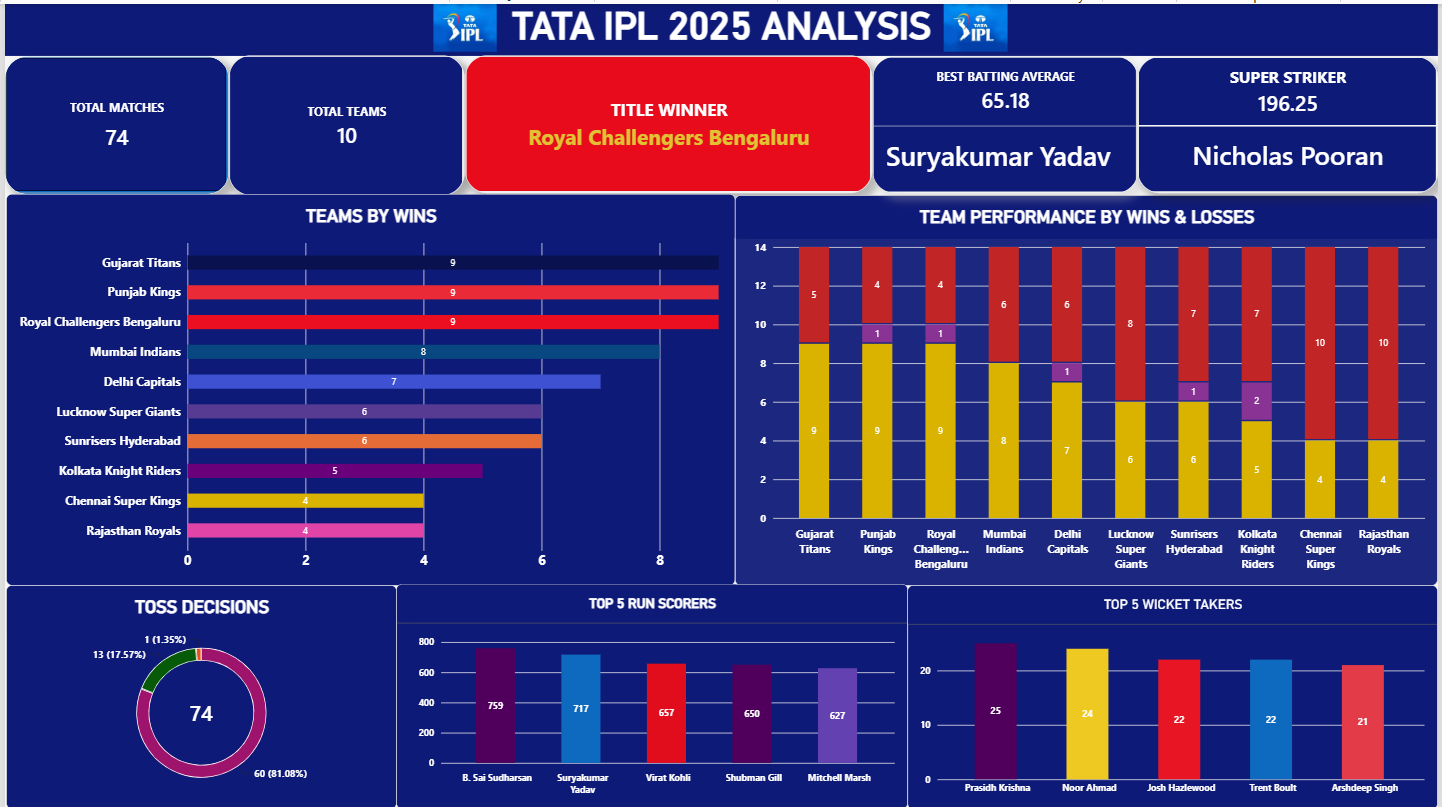

The dashboard page shown, as its layout file describes it:
{"tool":"powerbi","page":{"name":"Page 1","canvas":[1920,1080],"ordinal":0},"visuals":[{"type":"textbox","title":"TATA IPL 2025 ANALYSIS  ","box":[0,0,1920.4,69.8],"z":0},{"type":"cardVisual","fields":{"Data":["CountNonNull(IPL_2025_Match_Level_Final_Corrected.Match_ID)"]},"box":[0,69.8,300,184.9],"z":3000},{"type":"cardVisual","fields":{"Data":["Count(IPL_2025_Teams.Team)"]},"box":[300,68,315.7,188.4],"z":4000},{"type":"cardVisual","fields":{"Data":["Min(IPL_2025_Match_Level_Final_Corrected.Winner)"]},"box":[615.7,68,545.9,184.9],"z":5000},{"type":"barChart","title":"TEAMS BY WINS","fields":{"Category":["IPL_2025_Teams.Team"],"Y":["Sum(IPL_2025_Teams.Wins)"]},"box":[1.7,254.7,976.7,525],"z":6000},{"type":"columnChart","title":"TEAM PERFORMANCE BY WINS & LOSSES","fields":{"Category":["IPL_2025_Teams.Team"],"Y":["Sum(IPL_2025_Teams.Wins)","Sum(IPL_2025_Teams.No_Result)","Sum(IPL_2025_Teams.Losses)"]},"box":[978.5,256.4,941.9,523.3],"z":7000},{"type":"donutChart","title":"TOSS DECISIONS","fields":{"Category":["IPL_2025_Match_Level_Final_Corrected.Toss_Decision"],"Y":["CountNonNull(IPL_2025_Match_Level_Final_Corrected.Toss_Winner)"]},"box":[1.7,779.7,523.3,300],"z":8000},{"type":"clusteredColumnChart","title":"TOP 5 RUN SCORERS","fields":{"Category":["IPL_2025_Batting_Top20.Player"],"Y":["Sum(IPL_2025_Batting_Top20.Runs)"]},"box":[525,777.9,685.5,301.7],"z":9000},{"type":"clusteredColumnChart","title":"TOP 5 WICKET TAKERS","fields":{"Category":["IPL_2025_Bowling_Top10.Player"],"Y":["Sum(IPL_2025_Bowling_Top10.Wickets)"]},"box":[1210,779,710,301],"z":10000},{"type":"cardVisual","fields":{"Data":["Sum(IPL_2025_Batting_Top20.Batting_Average)"]},"box":[1161.6,69.8,355.8,183.1],"z":11000},{"type":"cardVisual","fields":{"Data":["Sum(IPL_2025_Batting_Top20.Strike_Rate)"]},"box":[1517.4,69.8,402.9,183.1],"z":12000},{"type":"image","box":[564.5,0,103.8,63.6],"z":12001},{"type":"image","box":[1237.8,0,125.6,63.6],"z":12002}]}

Visuals, with their boxes in screenshot pixels (x1, y1, x2, y2), scaled from the page's 1920x1080 canvas onto the 1442x807 screenshot:
"TATA IPL 2025 ANALYSIS  " textbox: region(0, 0, 1441, 52)
cardVisual - CountNonNull(IPL_2025_Match_Level_Final_Corrected.Match_ID): region(0, 52, 225, 190)
cardVisual - Count(IPL_2025_Teams.Team): region(225, 51, 462, 192)
cardVisual - Min(IPL_2025_Match_Level_Final_Corrected.Winner): region(462, 51, 872, 189)
"TEAMS BY WINS" barChart: region(1, 190, 735, 583)
"TEAM PERFORMANCE BY WINS & LOSSES" columnChart: region(735, 192, 1441, 583)
"TOSS DECISIONS" donutChart: region(1, 583, 394, 806)
"TOP 5 RUN SCORERS" clusteredColumnChart: region(394, 581, 909, 806)
"TOP 5 WICKET TAKERS" clusteredColumnChart: region(909, 582, 1441, 806)
cardVisual - Sum(IPL_2025_Batting_Top20.Batting_Average): region(872, 52, 1140, 189)
cardVisual - Sum(IPL_2025_Batting_Top20.Strike_Rate): region(1140, 52, 1441, 189)
image: region(424, 0, 502, 48)
image: region(930, 0, 1024, 48)
